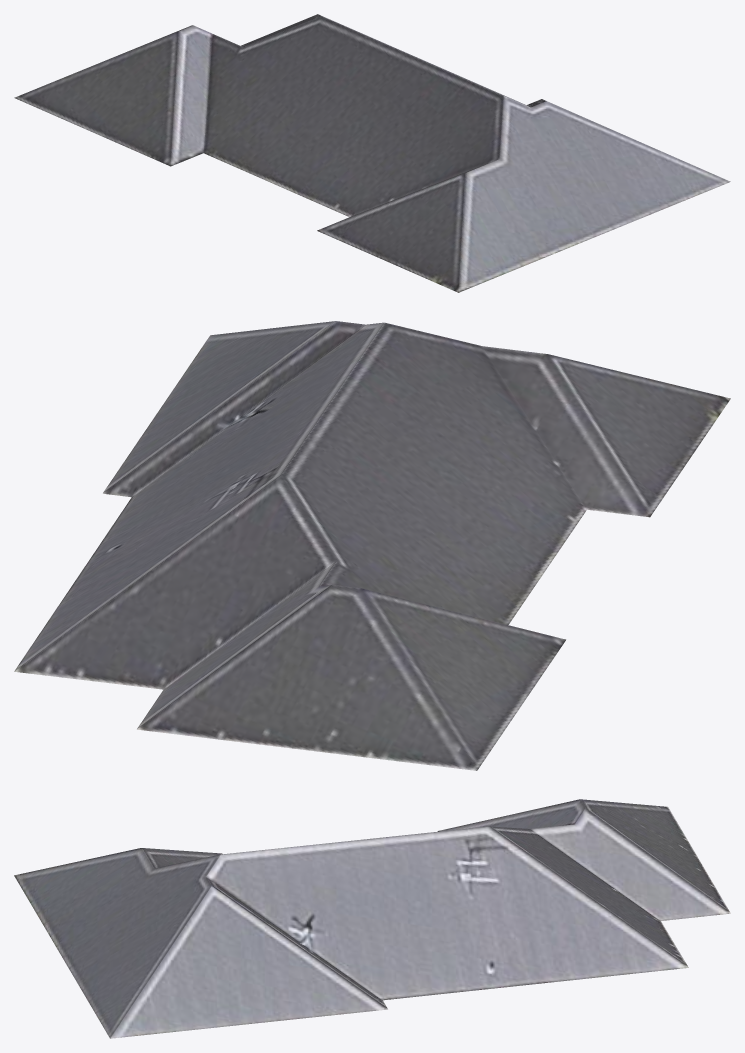
The model's file is BK39_500_018032_0015_roof.obj.
3 renders of one model, top to bottom at view 1: azimuth 30°, elevation 25°; view 2: azimuth 150°, elevation 25°; view 3: azimuth 270°, elevation 25°, orthographic. The views are drawn at different scales.
Parts seen in each view (by area): view 1: BK39_500_018032_0015_roof; view 2: BK39_500_018032_0015_roof; view 3: BK39_500_018032_0015_roof.
Part boxes in pixels (x1=…): BK39_500_018032_0015_roof: x1=14, y1=14, x2=730, y2=292; BK39_500_018032_0015_roof: x1=14, y1=321, x2=730, y2=770; BK39_500_018032_0015_roof: x1=14, y1=799, x2=730, y2=1038.
Size of the model in its own units: 367 by 70 by 480.
1 material, 1 textured.
